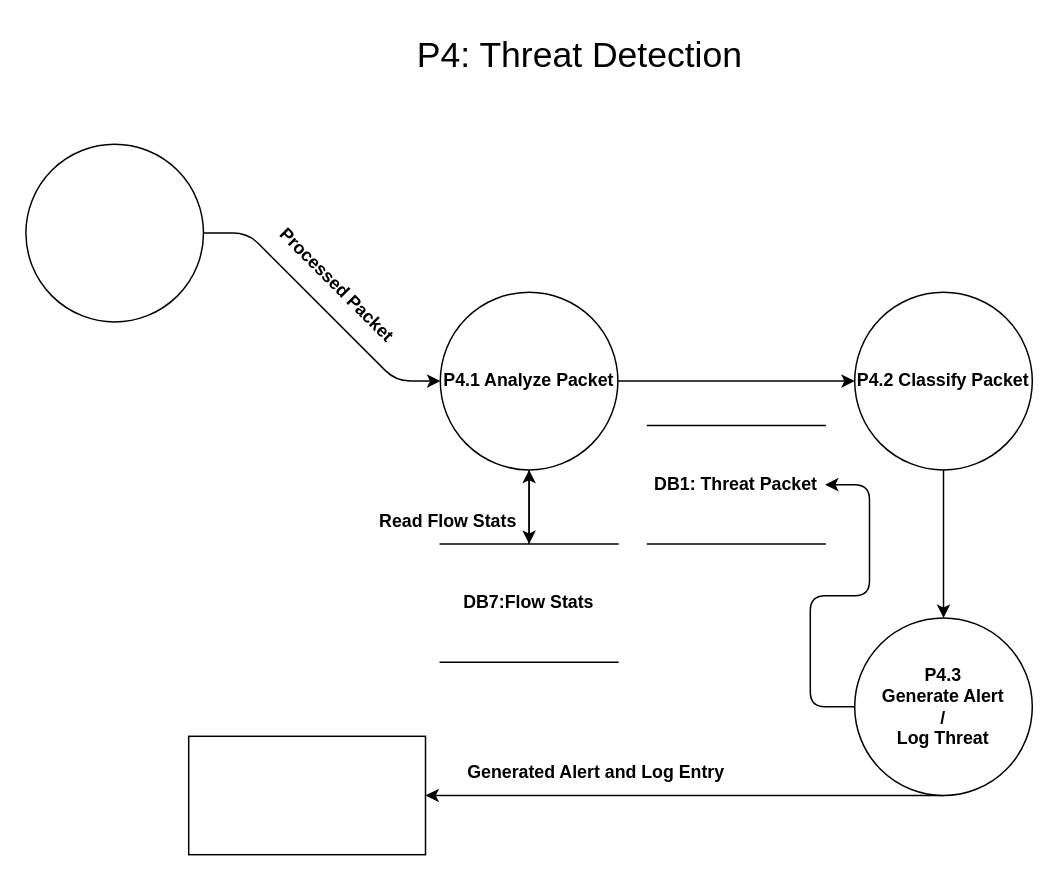
Some shapes in this 1058 by 881 pixel diagram are drawn without their labels. Each missing label, with the centre of its shape:
"P3 Traffic Analysis" goes at pixel 114 232.
"User Interface" goes at pixel 306 795.
